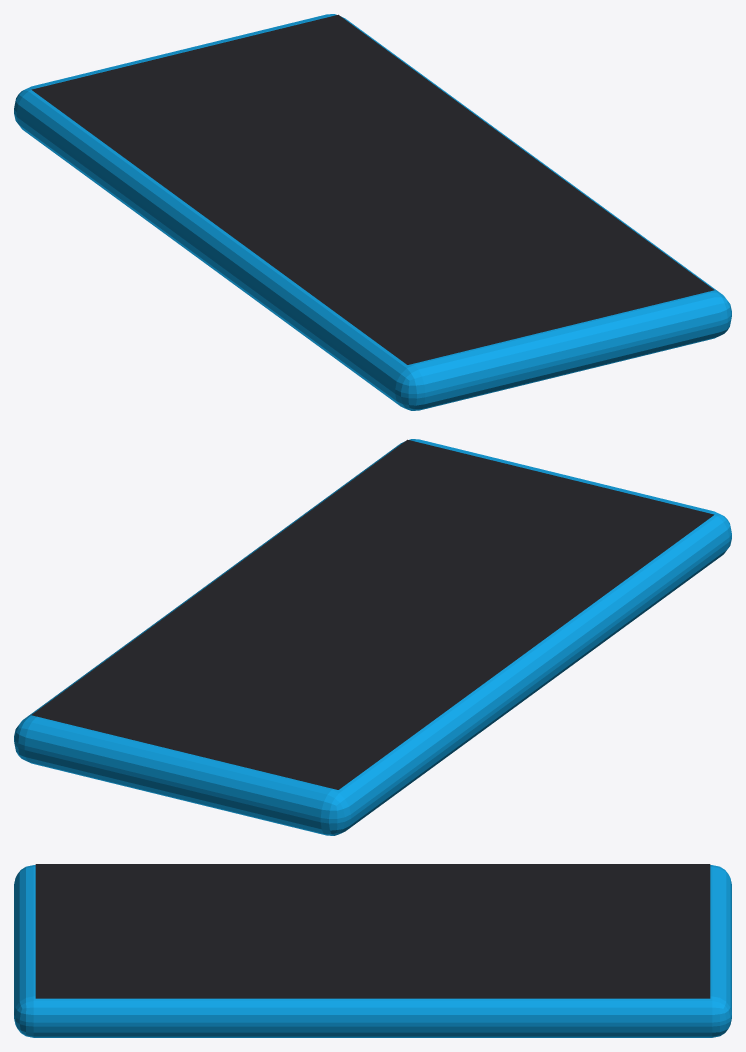
Rendered from Phone_540.glb.
3 renders of one model, top to bottom at view 1: azimuth 30°, elevation 25°; view 2: azimuth 150°, elevation 25°; view 3: azimuth 270°, elevation 25°, orthographic. The views are drawn at different scales.
Parts seen in each view (by area): view 1: Phone_Screen, Phone_Body; view 2: Phone_Screen, Phone_Body; view 3: Phone_Screen, Phone_Body.
Part boxes in pixels (left/top/right/bottom): Phone_Screen: left=31, top=14, right=714, bottom=364; Phone_Body: left=14, top=14, right=731, bottom=410; Phone_Screen: left=31, top=439, right=714, bottom=789; Phone_Body: left=14, top=439, right=731, bottom=835; Phone_Screen: left=35, top=864, right=710, bottom=998; Phone_Body: left=14, top=865, right=731, bottom=1037.
Size of the model in its own units: 0.0759 by 0.0097 by 0.1576.
